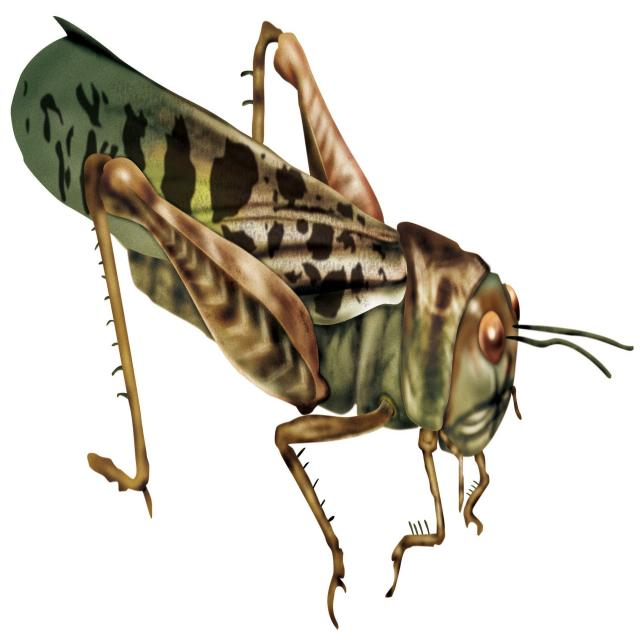ZhaMeng: (10, 16, 603, 597)
